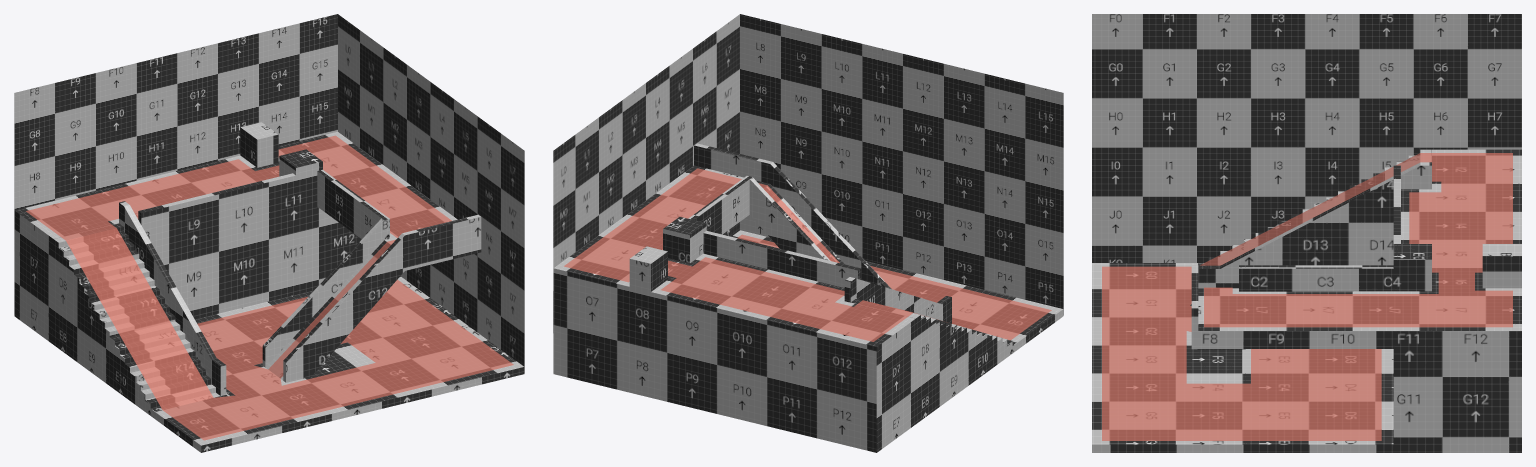
Rendered from nav_room.glb.
3 renders of one model, left to right at view 1: azimuth 30°, elevation 25°; view 2: azimuth 150°, elevation 25°; view 3: azimuth 270°, elevation 25°, orthographic. The views are drawn at different scales.
Visible parts, largest first — view 1: Room, Walls, Nav_Mesh; view 2: Room, Walls, Nav_Mesh; view 3: Room, Walls, Nav_Mesh.
Boxes of the visible parts, box(x1,y1,x2,y2) form: Room: box(14, 122, 524, 452); Walls: box(14, 14, 524, 373); Nav_Mesh: box(26, 135, 513, 440); Room: box(553, 143, 1063, 452); Walls: box(553, 14, 1063, 373); Nav_Mesh: box(564, 168, 1051, 341); Room: box(1092, 149, 1521, 452); Walls: box(1092, 14, 1521, 262); Nav_Mesh: box(1102, 153, 1512, 440).
Size of the model in its own units: 11.57 by 7.64 by 11.57.
3 materials, 2 textured.
